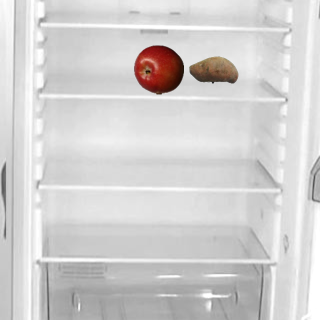Apple Braeburn: (133, 44, 183, 94)
Potato Sweet: (188, 44, 238, 94)
